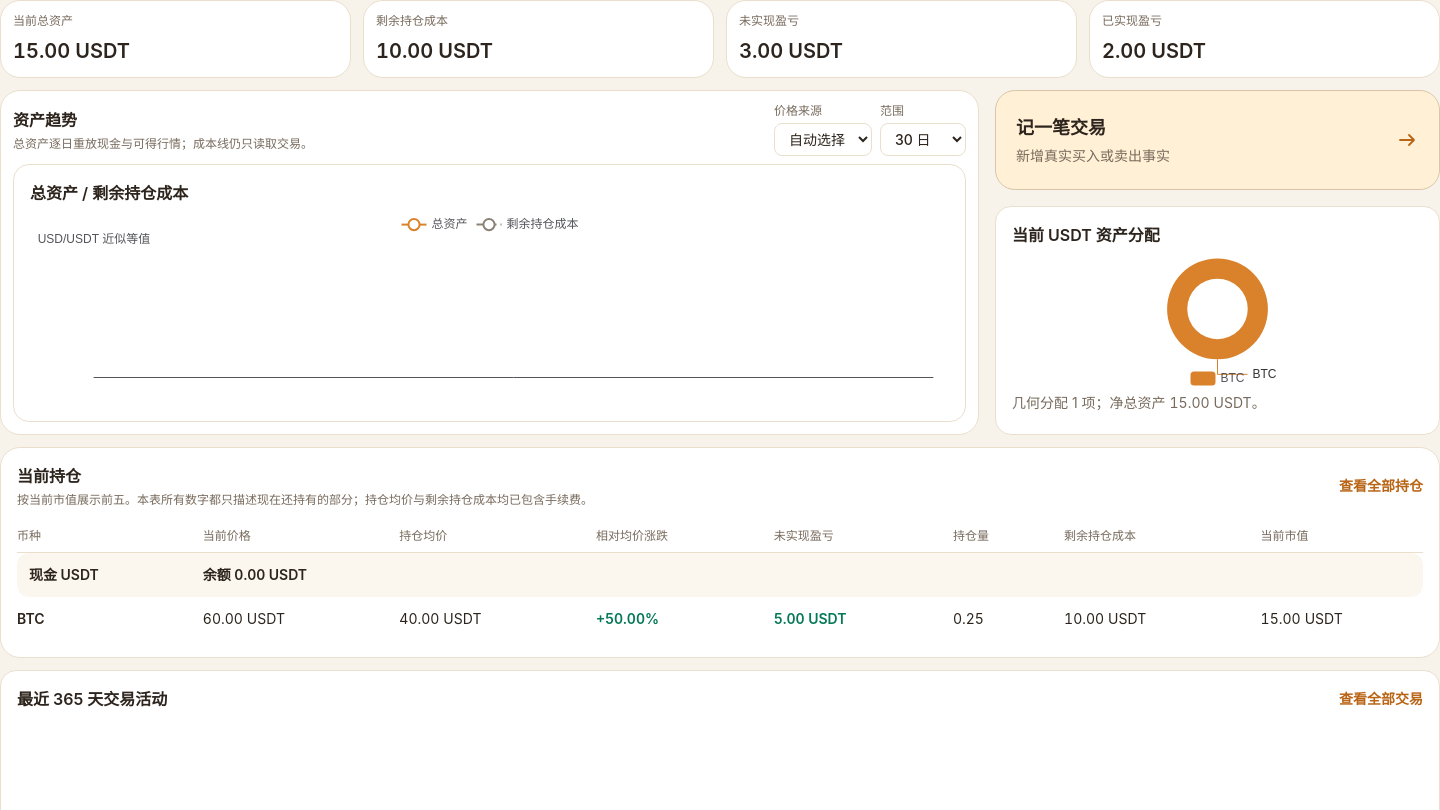
Test case: HomeWorkspace › T-13 keeps holdings terms consistent across metrics, overview, and details
Expected: the heading "剩余持仓成本" is shown, [376, 13, 448, 28]
Expected: the heading "未实现盈亏" is shown, [739, 13, 799, 28]
Click the button "查看全部持仓".
click(1381, 486)  # box [1339, 476, 1423, 496]
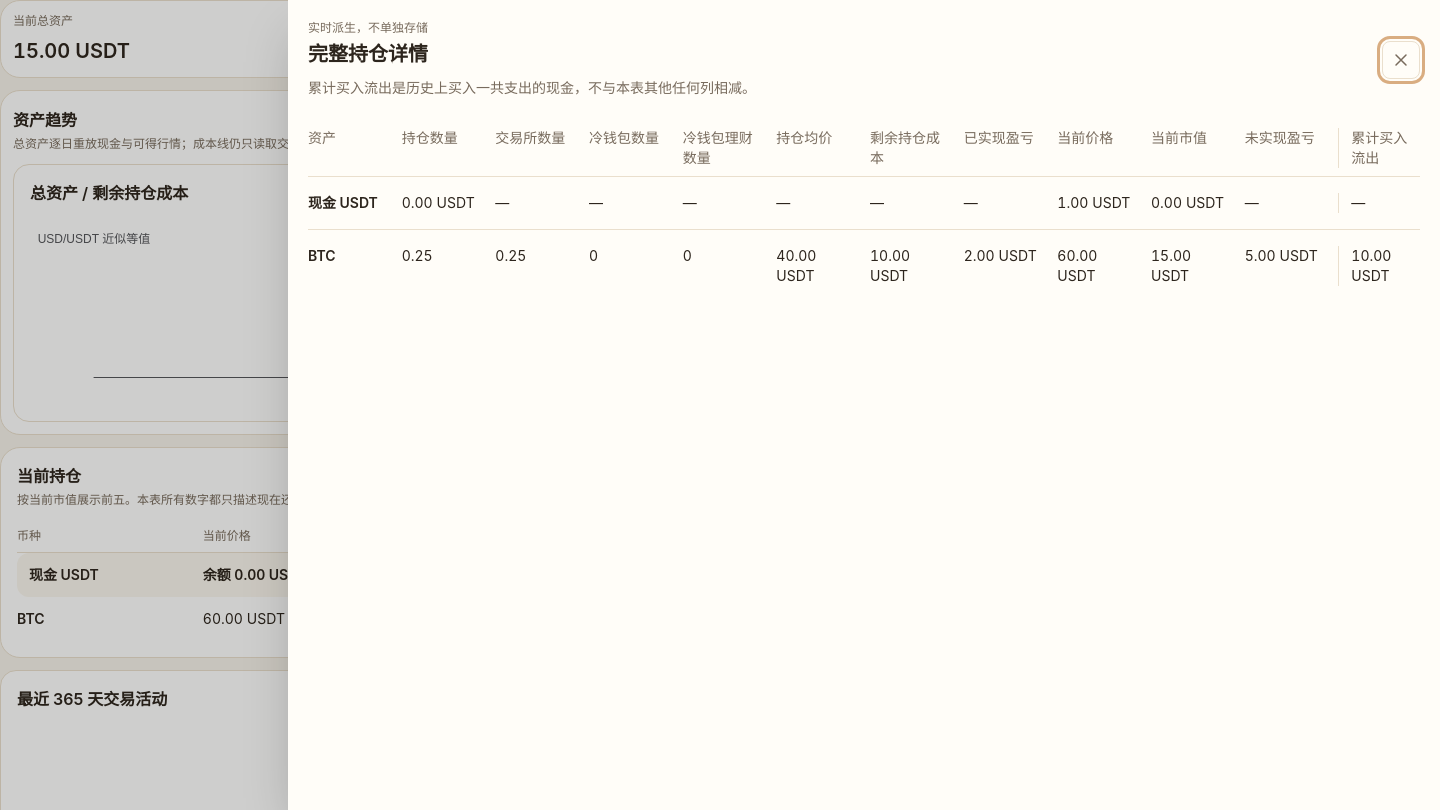
Now the column heading "持仓均价" is shown, box [776, 129, 832, 146]
Now the column heading "剩余持仓成本" is shown, box [870, 128, 952, 168]
Now the column heading "未实现盈亏" is shown, box [1245, 129, 1315, 146]
